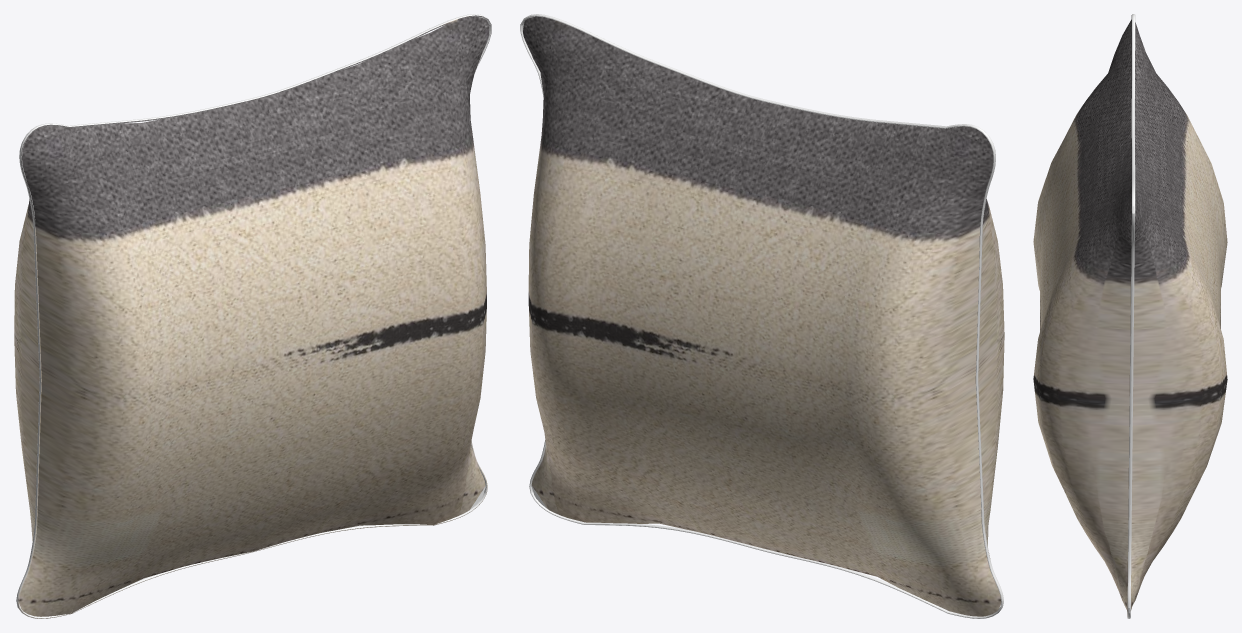
The model's file is Urban_Cushion_Square.glb.
3 views of the same model, side by side, from view 1: azimuth 30°, elevation 25°; view 2: azimuth 150°, elevation 25°; view 3: azimuth 270°, elevation 25° (orthographic). The views are drawn at different scales.
Visible parts, largest first — view 1: Furniture - Throw Pillow - Blue#2; view 2: Furniture - Throw Pillow - Blue#2; view 3: Furniture - Throw Pillow - Blue#2.
Part boxes in pixels (x1,y1,x2,y2): Furniture - Throw Pillow - Blue#2: (14,14,491,618); Furniture - Throw Pillow - Blue#2: (520,14,1004,618); Furniture - Throw Pillow - Blue#2: (1033,14,1227,618).
Size of the model in its own units: 0.5 by 0.5 by 0.2036.
2 materials, 1 textured.
